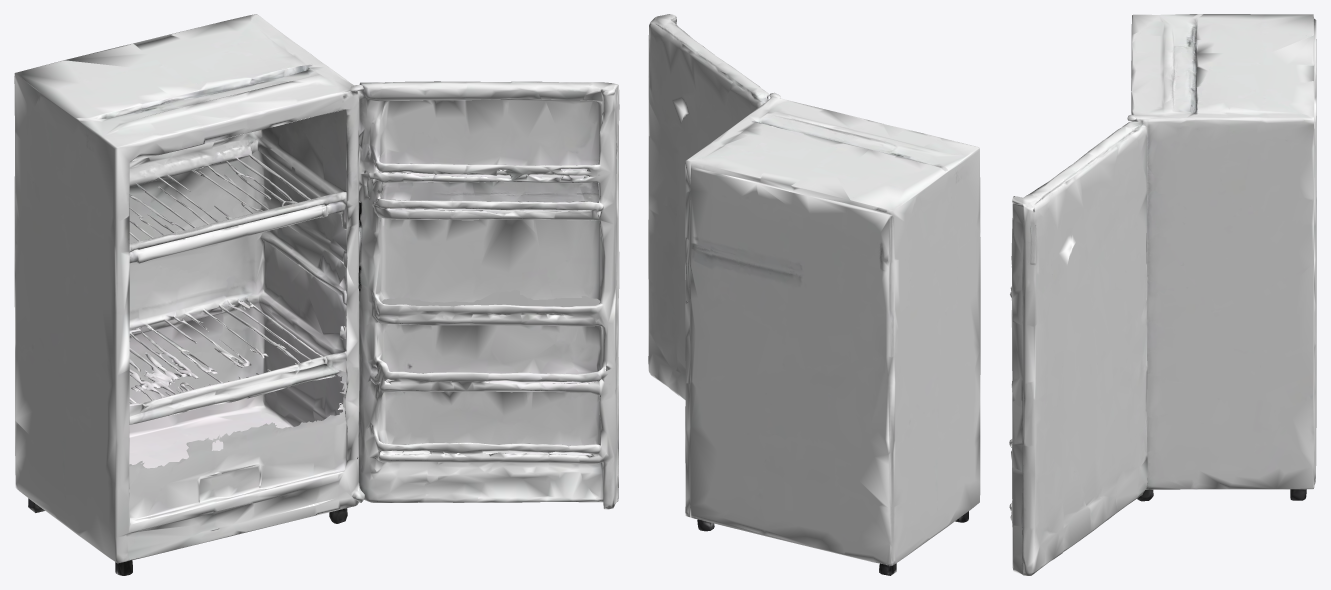
The model's file is Refrigerator_nofood.glb.
3 renders of one model, left to right at view 1: azimuth 30°, elevation 25°; view 2: azimuth 150°, elevation 25°; view 3: azimuth 270°, elevation 25°, orthographic. The views are drawn at different scales.
Visible parts, largest first — view 1: Mesh_0; view 2: Mesh_0; view 3: Mesh_0.
Boxes of the visible parts, x1=… form: Mesh_0: x1=14, y1=14, x2=619, y2=575; Mesh_0: x1=648, y1=14, x2=980, y2=575; Mesh_0: x1=1009, y1=14, x2=1316, y2=575.
Bounding box in the file's own units: 0.9028 × 0.85 × 0.6083.
Materials: 1 (1 with a texture image).
